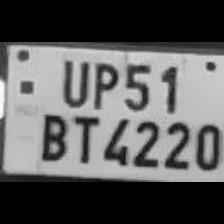0: (190, 117, 220, 171)
1: (153, 59, 183, 113)
2: (129, 115, 159, 167), (160, 117, 190, 169)
4: (99, 112, 131, 168)
5: (118, 59, 152, 109)
B: (36, 108, 70, 162)
P: (87, 58, 119, 108)
T: (68, 110, 100, 164)
U: (55, 54, 90, 106)
